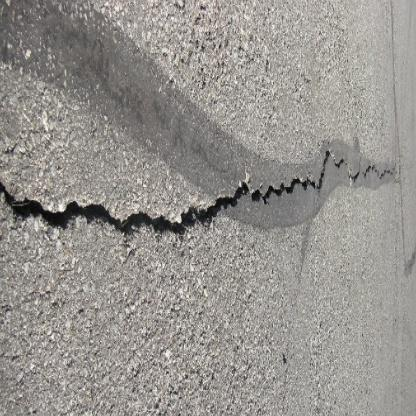Cracks: (0, 147, 349, 241), (348, 160, 398, 188)
